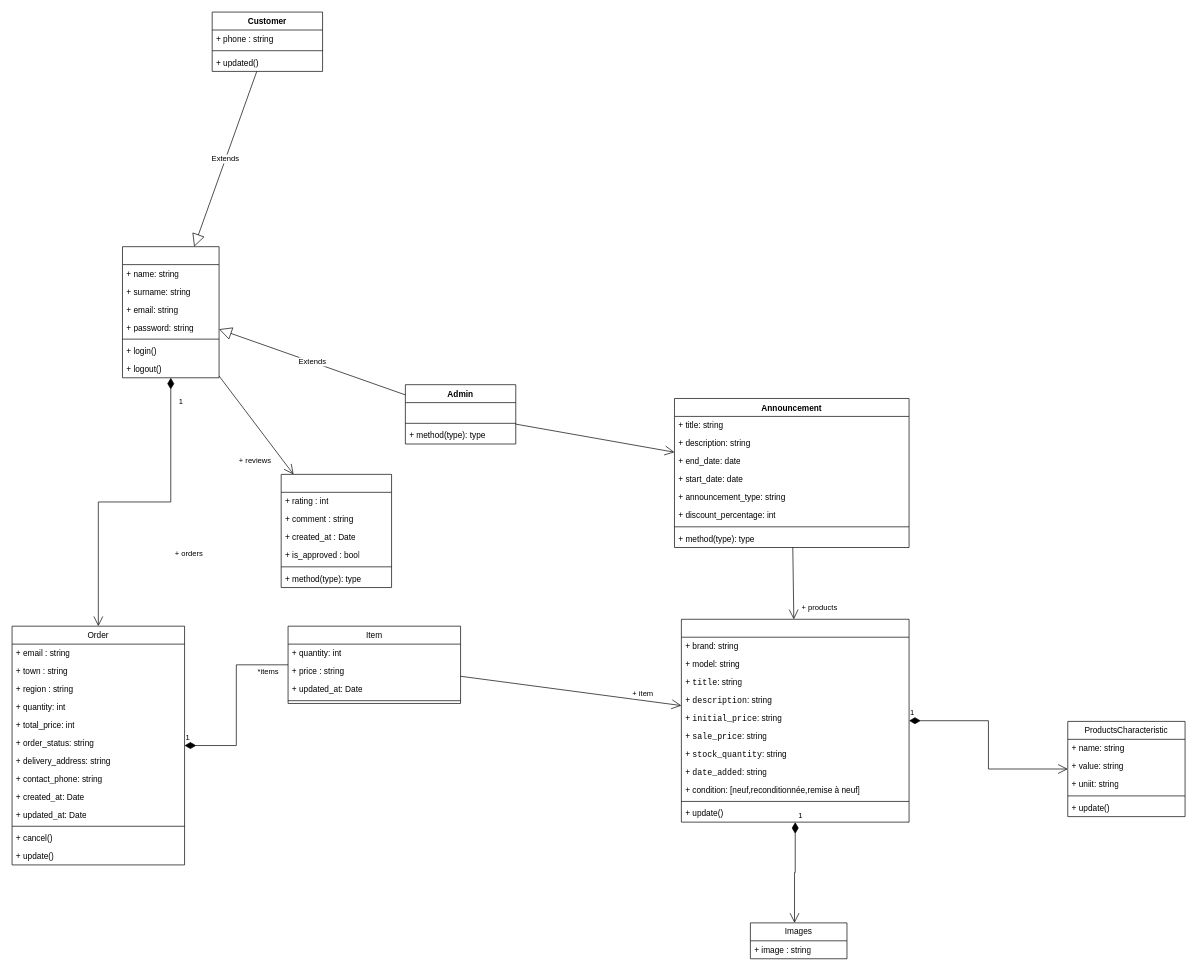
This 1197x973 diagram has some shape labels left out. The box of each missing label's shape, as (x1, y1, x2, y2) in pixels:
Products: (681, 619, 909, 822)
Review: (280, 474, 392, 588)
User: (122, 246, 219, 378)
